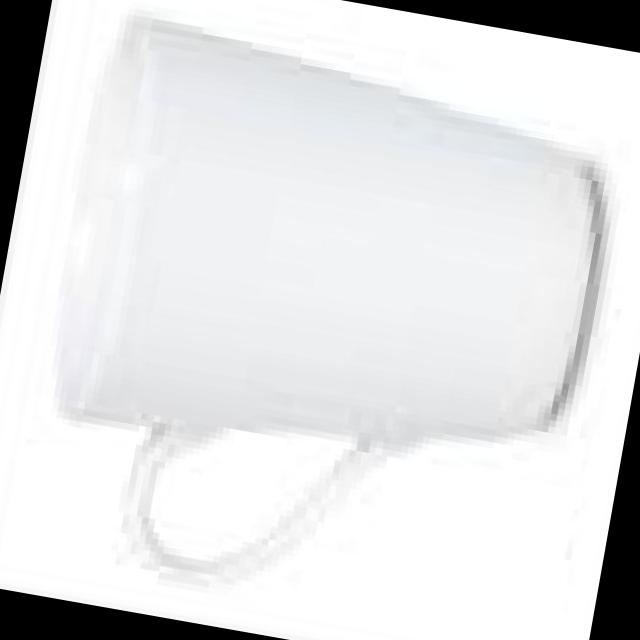Coffee Mug: (21, 15, 614, 631)
